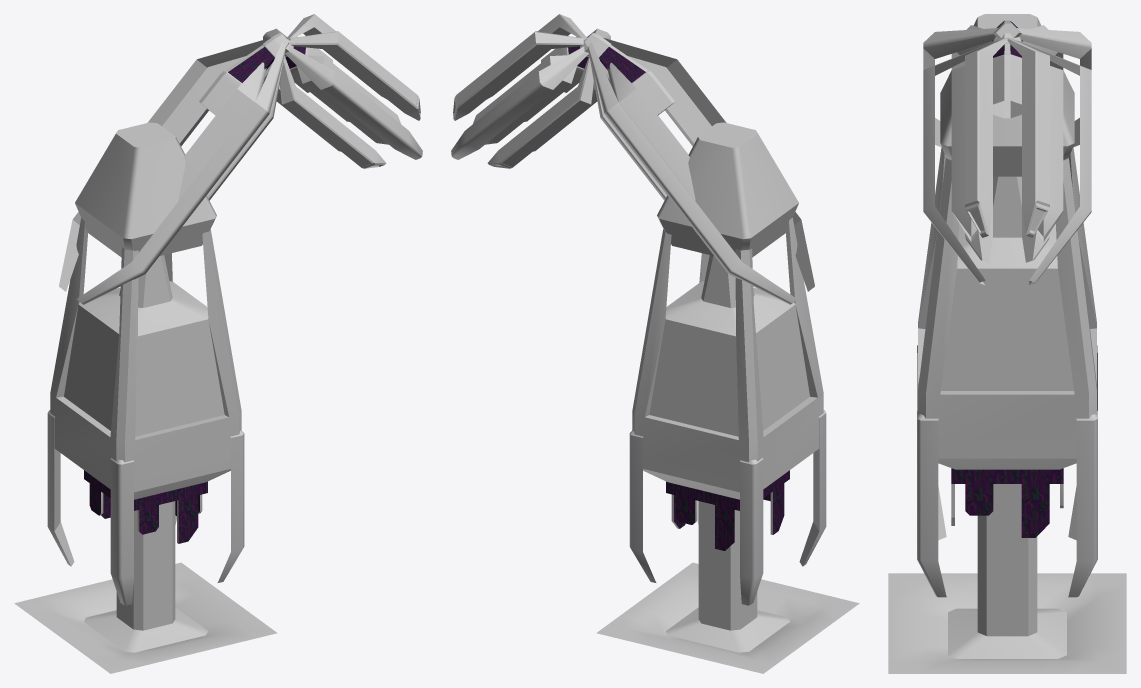
The model's file is cbtowe05.FBX.
The picture shows the model from 3 angles, left to right: view 1: azimuth 30°, elevation 25°; view 2: azimuth 150°, elevation 25°; view 3: azimuth 270°, elevation 25°; orthographic projection. The views are drawn at different scales.
Visible parts, largest first — view 1: tower3, tower_07, tower_072, terrain, hangfin4, cbtowe06, glassa3, glassa; view 2: tower3, tower_07, tower_072, terrain, hangfin4, cbtowe06, glassa1, glassa; view 3: tower3, tower_072, terrain, cbtowe06, hangfin4, tower_07, glassa2.
Part boxes in pixels (x1,y1,x2,y2): tower3: (50, 122, 241, 564); tower_07: (59, 33, 289, 304); tower_072: (263, 14, 422, 168); terrain: (14, 562, 277, 673); hangfin4: (47, 410, 244, 605); cbtowe06: (84, 554, 207, 652); glassa3: (134, 481, 207, 543); glassa: (84, 470, 110, 515); tower3: (632, 122, 823, 564); tower_07: (584, 33, 814, 304); tower_072: (451, 14, 610, 168); terrain: (596, 562, 859, 673); hangfin4: (629, 410, 826, 605); cbtowe06: (666, 554, 789, 652); glassa1: (666, 481, 739, 550); glassa: (763, 470, 789, 534); tower3: (918, 14, 1096, 554); tower_072: (923, 33, 1091, 285); terrain: (888, 573, 1126, 673); cbtowe06: (948, 551, 1066, 658); hangfin4: (917, 345, 1097, 597); tower_07: (923, 19, 1091, 147); glassa2: (951, 468, 1063, 537).
Size of the model in its own units: 135 by 208 by 64.
